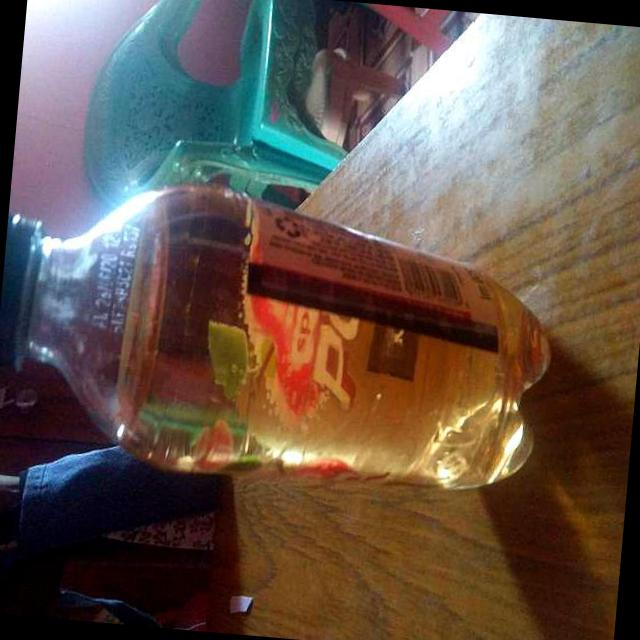Non-biodegradable: (1, 167, 567, 499)
